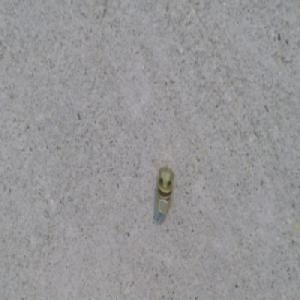BoltNutSet: (154, 168, 172, 215)
